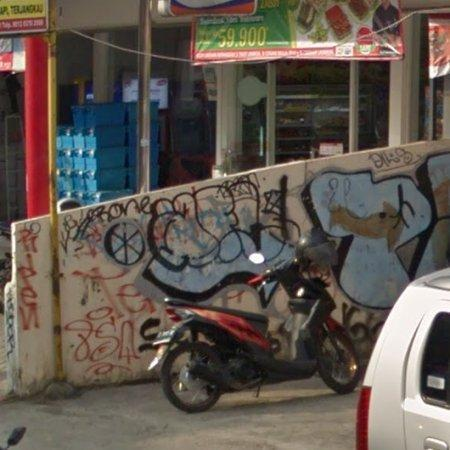motorcycles: (150, 239, 361, 414)
